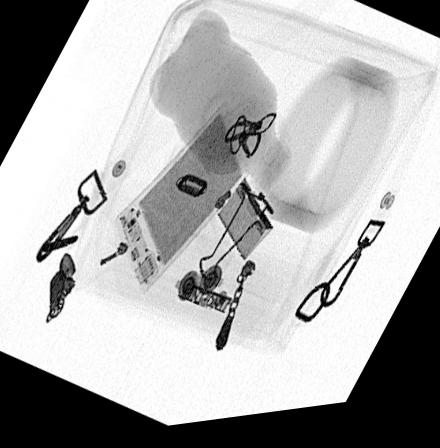Powerbank: (113, 107, 249, 302)
